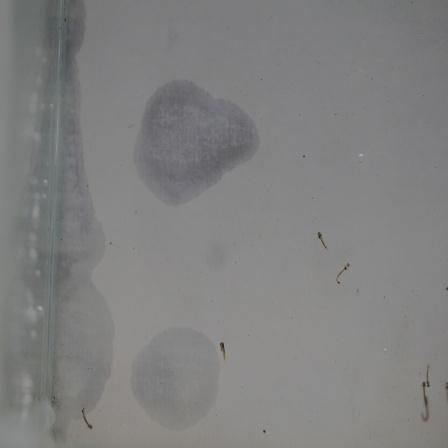Jentik-Nyamuk: (332, 259, 355, 291), (214, 336, 231, 367), (79, 402, 96, 433), (313, 229, 331, 253)
